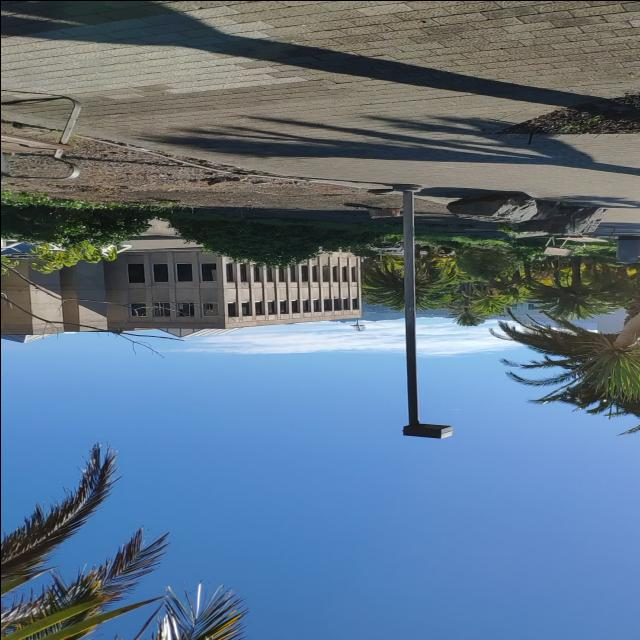Palm-Trees: (529, 254, 613, 320), (365, 252, 448, 306)
